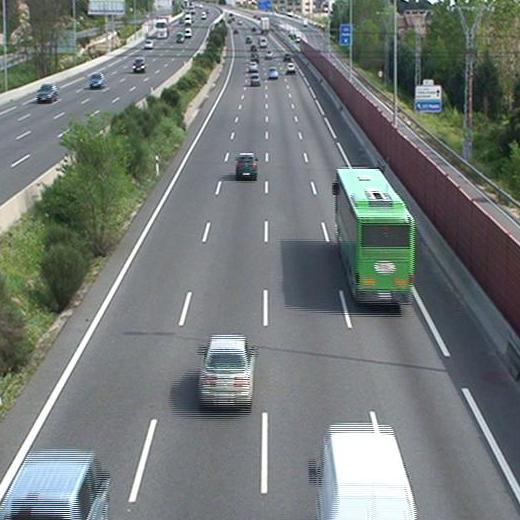bus: (333, 166, 417, 307)
car: (2, 447, 112, 520), (197, 335, 258, 409), (234, 151, 258, 179), (266, 66, 280, 79), (249, 73, 261, 86), (247, 61, 259, 74), (287, 62, 296, 74)
van: (313, 423, 419, 519)
